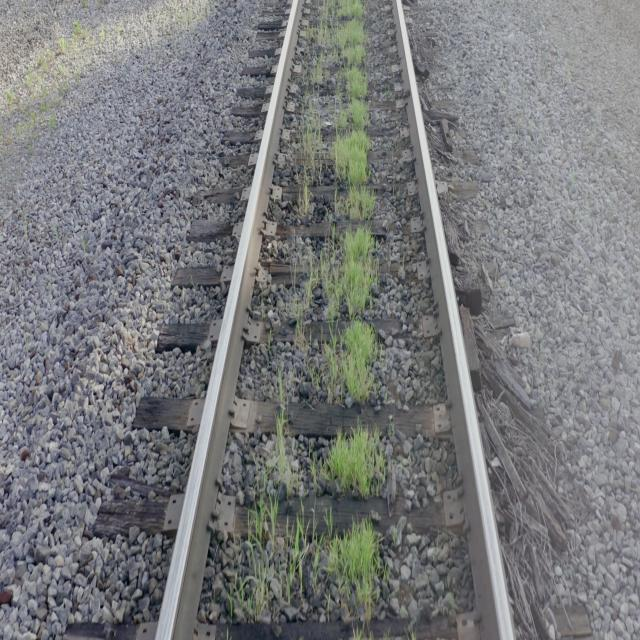Plant: (295, 0, 375, 227), (294, 229, 379, 407), (239, 493, 310, 620), (314, 518, 384, 620), (309, 427, 388, 498), (271, 376, 291, 482)
